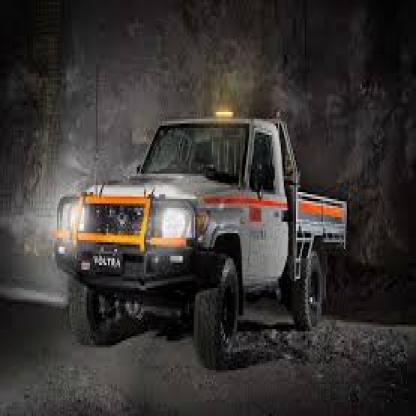light_vehicle: (45, 92, 342, 377)
